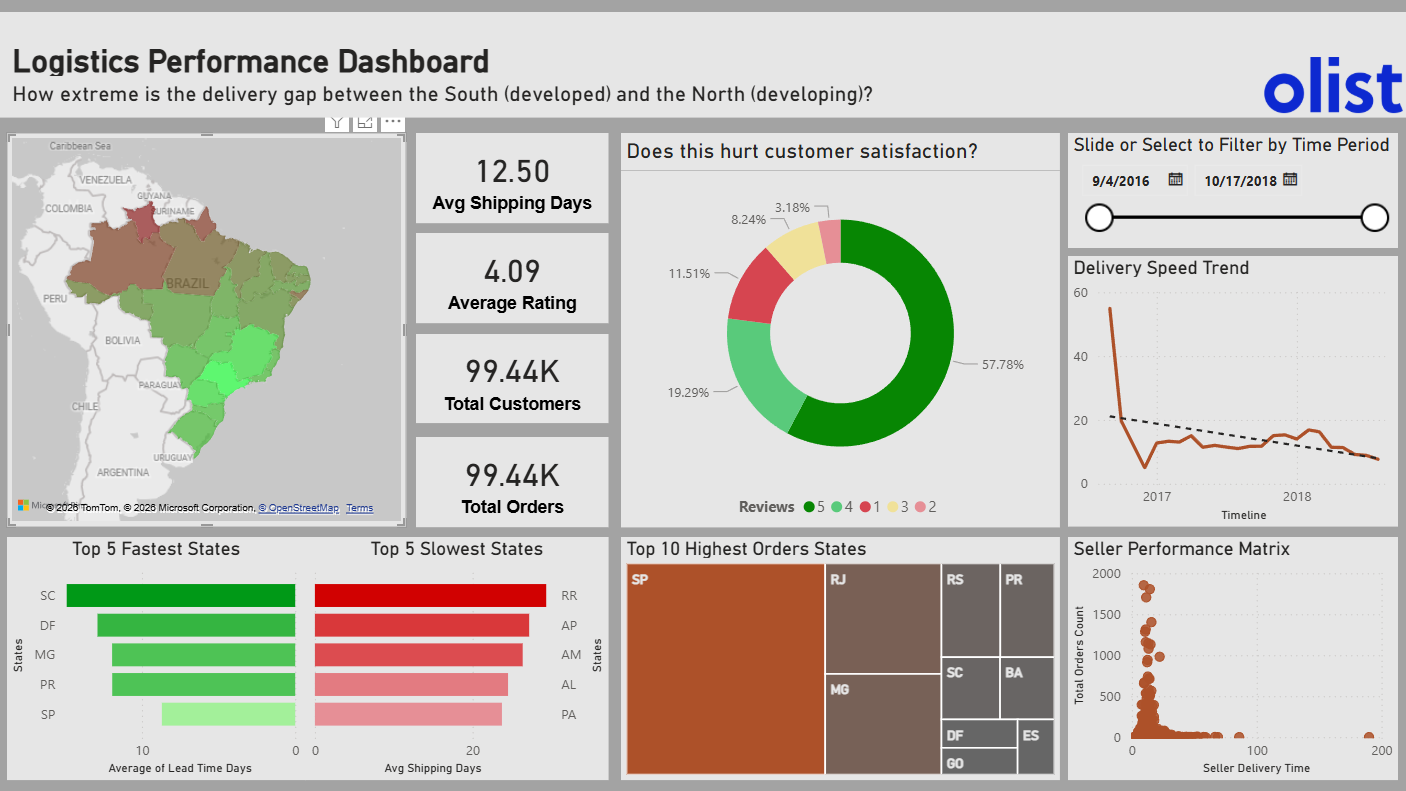

The dashboard page shown, as its layout file describes it:
{"tool":"powerbi","page":{"name":"Page 1","canvas":[1280,720],"ordinal":0},"visuals":[{"type":"filledMap","fields":{"Category":["olist_customers_dataset.Geo Location"]},"box":[8,121,363,358],"z":0},{"type":"card","fields":{"Values":["Count(olist_orders_dataset.order_id)"]},"box":[380,397,175,82],"z":1000},{"type":"card","fields":{"Values":["Avg(olist_orders_dataset.Lead Time Days)"]},"box":[380,121,175,82],"z":2000},{"type":"barChart","title":"Top 5 Slowest States","fields":{"Category":["olist_customers_dataset.customer_state"],"Y":["Avg(olist_orders_dataset.Lead Time Days)"]},"box":[279,488,276,221],"z":3000},{"type":"barChart","title":"Top 5 Fastest States","fields":{"Category":["olist_customers_dataset.customer_state"],"Y":["Avg(olist_orders_dataset.Lead Time Days)"]},"box":[8,488,271,221],"z":4000},{"type":"shape","box":[0,11,1280,96],"z":5000},{"type":"textbox","box":[8,34,450,49],"z":6000},{"type":"image","box":[1148,52,132,51],"z":7000},{"type":"card","fields":{"Values":["Avg(olist_order_reviews_dataset.review_score)"]},"box":[380,212,175,82],"z":8000},{"type":"card","fields":{"Values":["Count(olist_customers_dataset.customer_id)"]},"box":[380,304,175,81],"z":9000},{"type":"textbox","box":[8,69,852,34],"z":10000},{"type":"donutChart","title":"Customer Satisfaction","fields":{"Category":["olist_order_reviews_dataset.review_score"],"Y":["CountNonNull(olist_order_reviews_dataset.review_id)"]},"box":[566,155,399,324],"z":11000},{"type":"textbox","box":[566,121,399,34],"z":12000},{"type":"treemap","title":"Top 10 Highest Orders States","fields":{"Values":["CountNonNull(olist_order_reviews_dataset.order_id)"],"Group":["olist_customers_dataset.customer_state"]},"box":[566,488,399,221],"z":13000},{"type":"slicer","title":"Slide or Select to Filter by Time Period","fields":{"Values":["olist_orders_dataset.order_purchase_timestamp"]},"box":[973,121,300,104],"z":14000},{"type":"lineChart","title":"Delivery Speed Trend","fields":{"Y":["Avg(olist_orders_dataset.Lead Time Days)"],"Category":["olist_orders_dataset.Month_Year"]},"box":[973,233,300,246],"z":15000},{"type":"scatterChart","title":"Seller Performance Matrix","fields":{"Y":["olist_orders_dataset.Total Orders Count"],"X":["Avg(olist_orders_dataset.Lead Time Days)"],"Category":["olist_order_items_dataset.seller_id"]},"box":[973,488,300,221],"z":16000}]}

Visuals, with their boxes in screenshot pixels (x1, y1, x2, y2), scaled from the page's 1280x720 canvas onto the 1406x791 screenshot:
filledMap - olist_customers_dataset.Geo Location: [9,133,408,526]
card - Count(olist_orders_dataset.order_id): [417,436,610,526]
card - Avg(olist_orders_dataset.Lead Time Days): [417,133,610,223]
"Top 5 Slowest States" barChart: [306,536,610,779]
"Top 5 Fastest States" barChart: [9,536,306,779]
shape: [0,12,1405,118]
textbox: [9,37,503,91]
image: [1261,57,1405,113]
card - Avg(olist_order_reviews_dataset.review_score): [417,233,610,323]
card - Count(olist_customers_dataset.customer_id): [417,334,610,423]
textbox: [9,76,945,113]
"Customer Satisfaction" donutChart: [622,170,1060,526]
textbox: [622,133,1060,170]
"Top 10 Highest Orders States" treemap: [622,536,1060,779]
"Slide or Select to Filter by Time Period" slicer: [1069,133,1398,247]
"Delivery Speed Trend" lineChart: [1069,256,1398,526]
"Seller Performance Matrix" scatterChart: [1069,536,1398,779]
